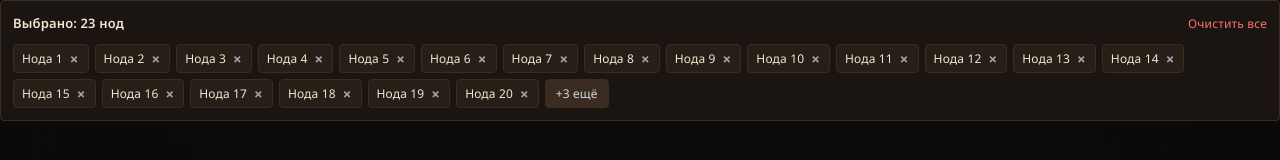
it: AtlasSelectedBasket — iter 183 › cap & expander › clicking «свернуть» collapses back to cap
Click the button with aria-label "Развернуть оставшиеся 3" at point(577, 94), box [545,79,609,108]
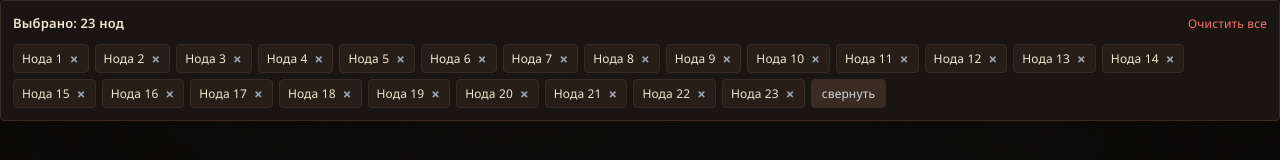
Expected: the text "Нода 23" is shown, [731,84,779,103]
Click the button with aria-label "Свернуть оставшиеся" at point(848, 94), box [811,79,886,108]
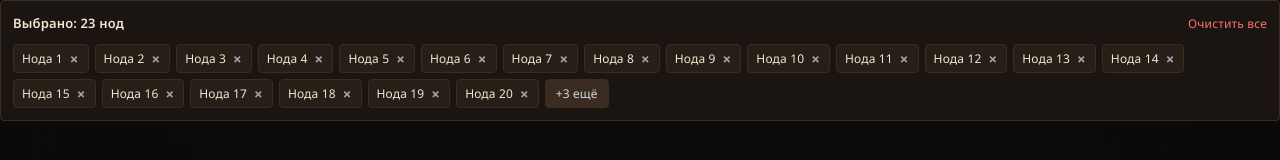
Expected: the button "Нода 23" is gone
Expected: the button with aria-label "Развернуть оставшиеся 3" is shown, [545,79,609,108]
